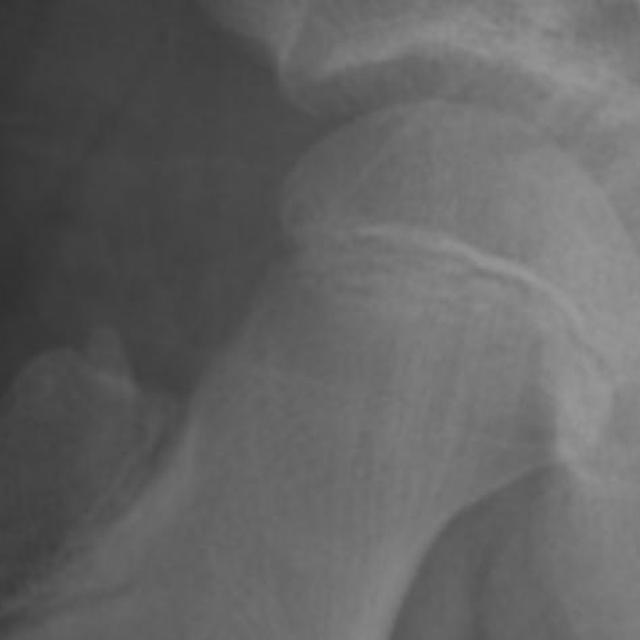Fitted_femural_head: (416, 107, 432, 416)
